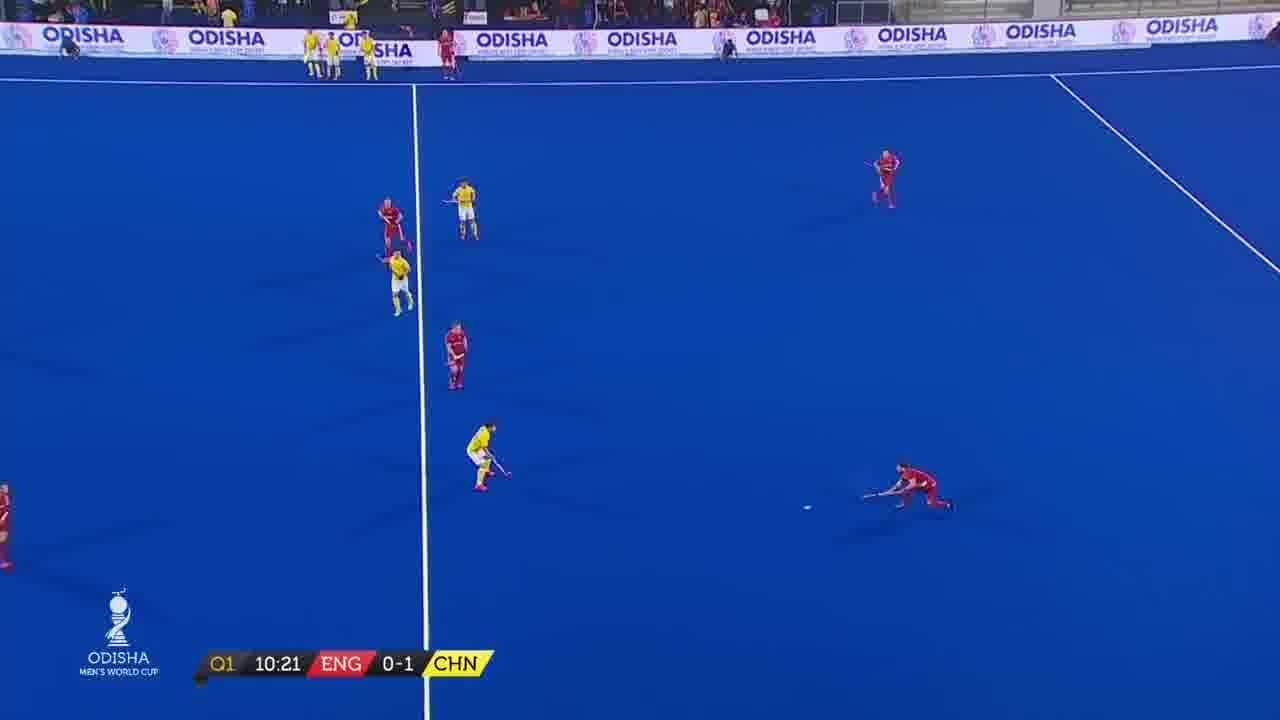ball: (798, 501, 821, 519)
